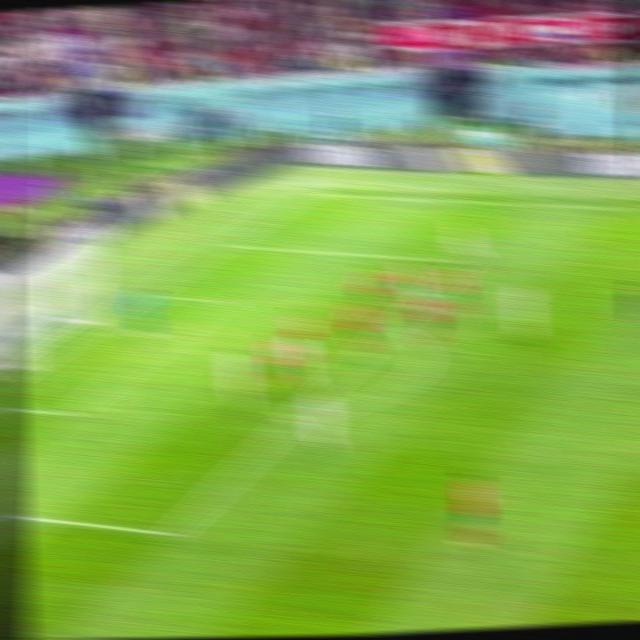bigarea_bottom_inner: (149, 516, 192, 551)
bigarea_top_inner: (453, 252, 478, 270)
bigarea_top_outter: (211, 233, 238, 257)
bottom_arc_area_intersection: (278, 406, 308, 434)
corner: (294, 188, 320, 201)
smallarea_bottom_inner: (50, 399, 84, 429)
smallarea_top_inner: (211, 294, 239, 313)
top_arc_area_intersection: (379, 311, 410, 342)
